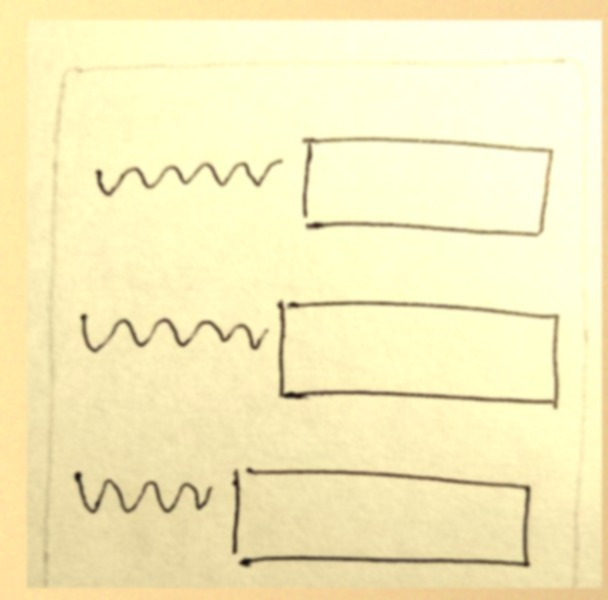text: (70, 301, 272, 365), (84, 142, 285, 194), (68, 463, 220, 527)
text_input: (229, 457, 540, 575), (277, 290, 566, 416), (295, 126, 563, 243)
